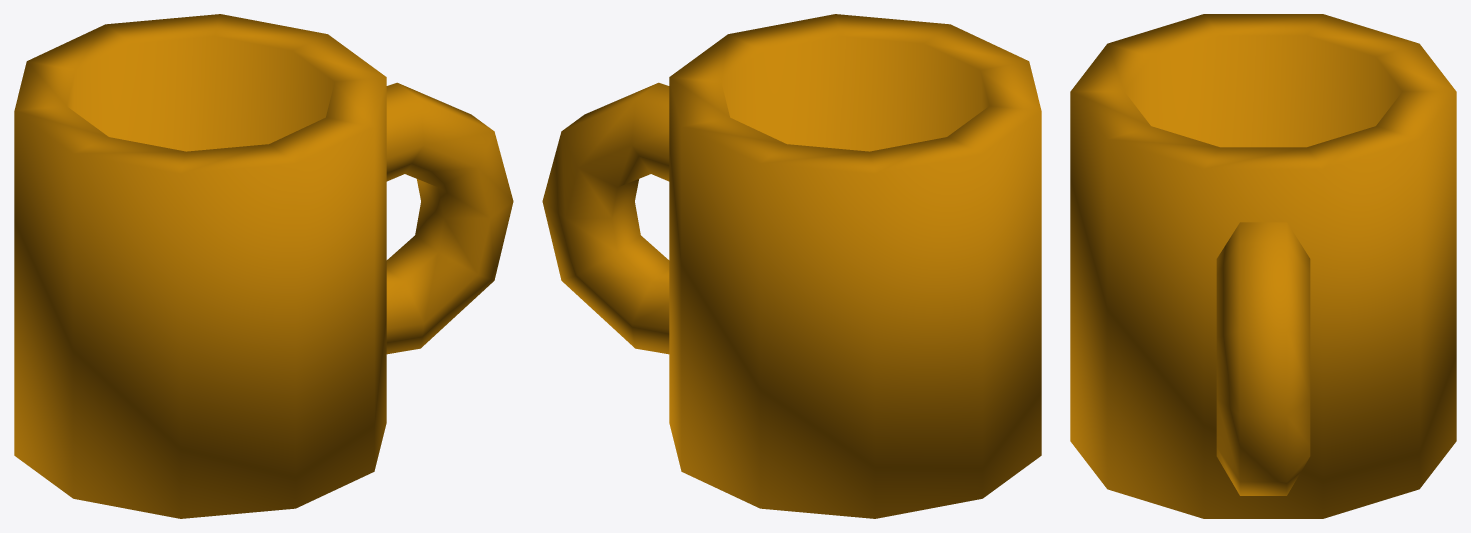
File: mug1.fbx
3 renders of one model, left to right at view 1: azimuth 30°, elevation 25°; view 2: azimuth 150°, elevation 25°; view 3: azimuth 270°, elevation 25°, orthographic.
Visible parts, largest first — view 1: Cylinder.003; view 2: Cylinder.003; view 3: Cylinder.003.
Boxes of the visible parts, left/top/right/bottom form: Cylinder.003: left=14, top=14, right=513, bottom=518; Cylinder.003: left=542, top=14, right=1041, bottom=518; Cylinder.003: left=1070, top=14, right=1456, bottom=518.
Size of the model in its own units: 89.31 by 64.27 by 64.27.
